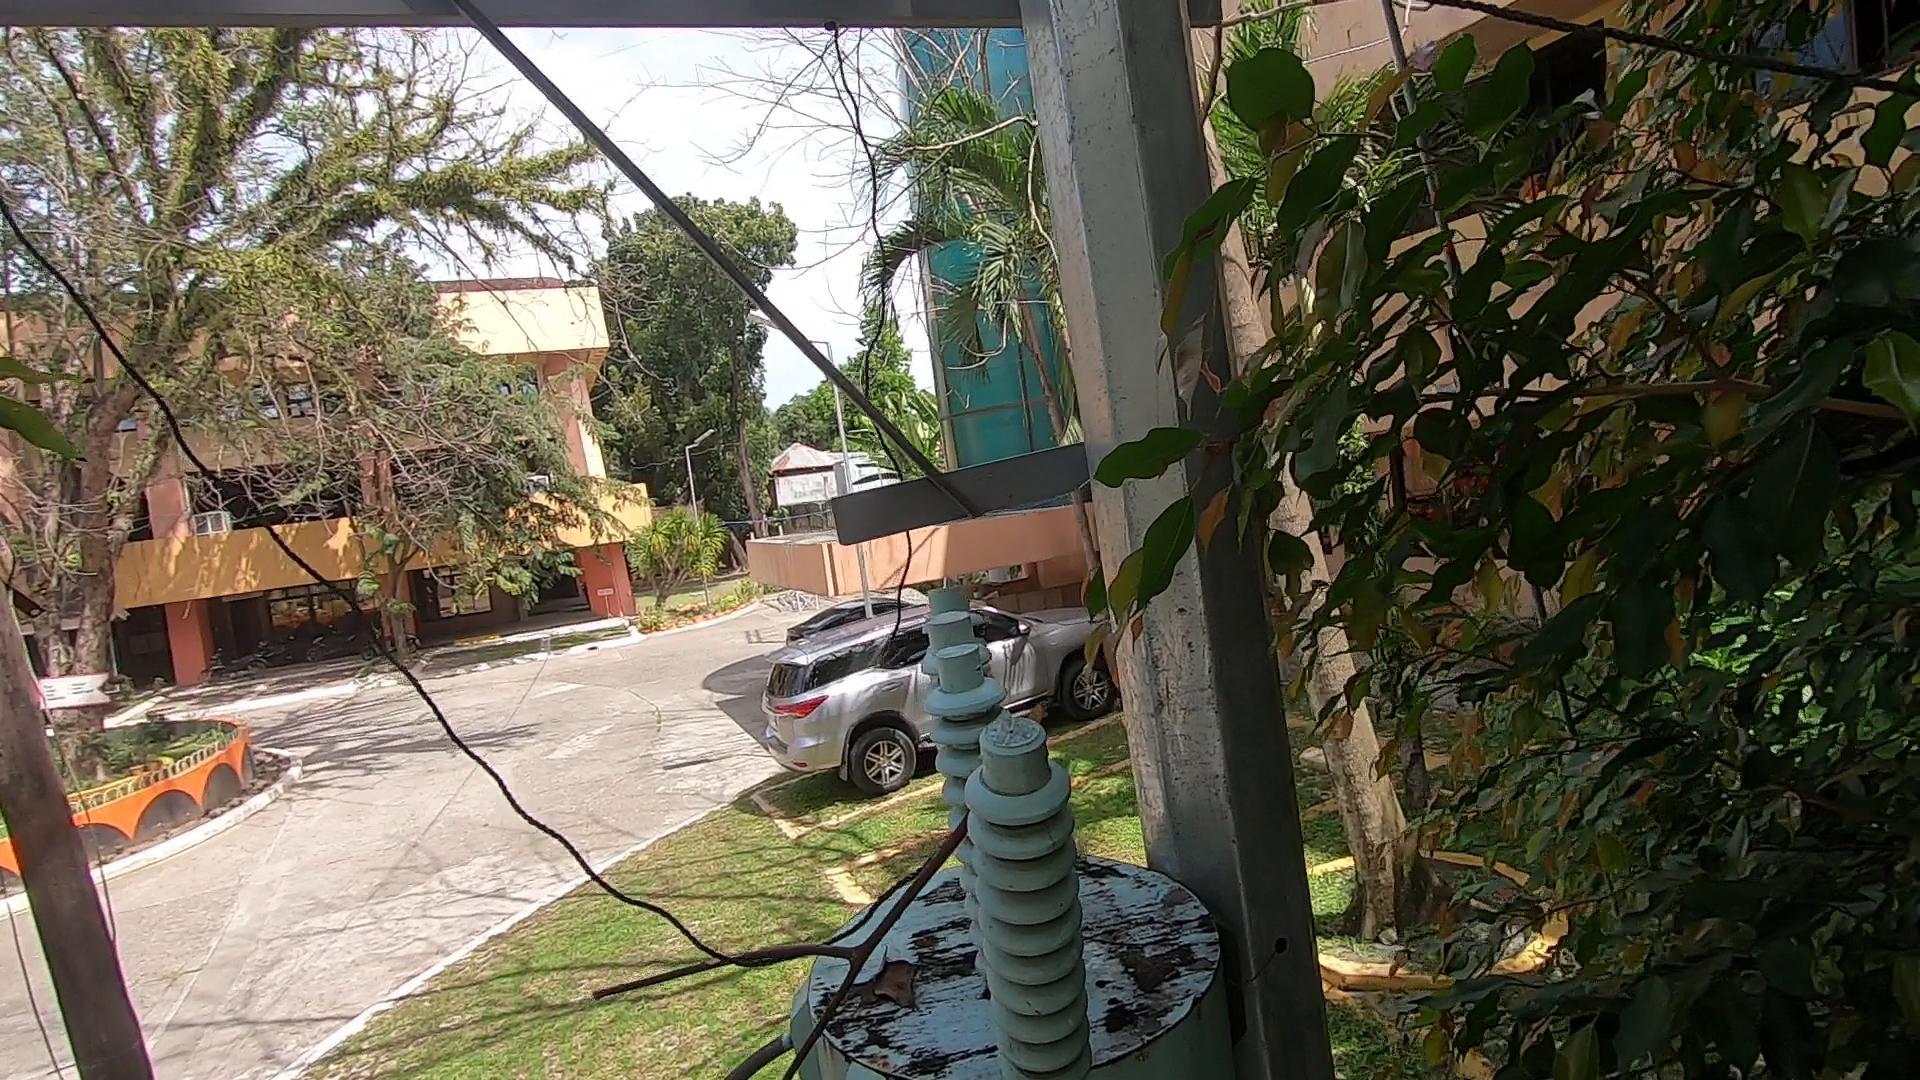leaf: (865, 945, 935, 1025)
tree branch: (558, 757, 1021, 1080)
